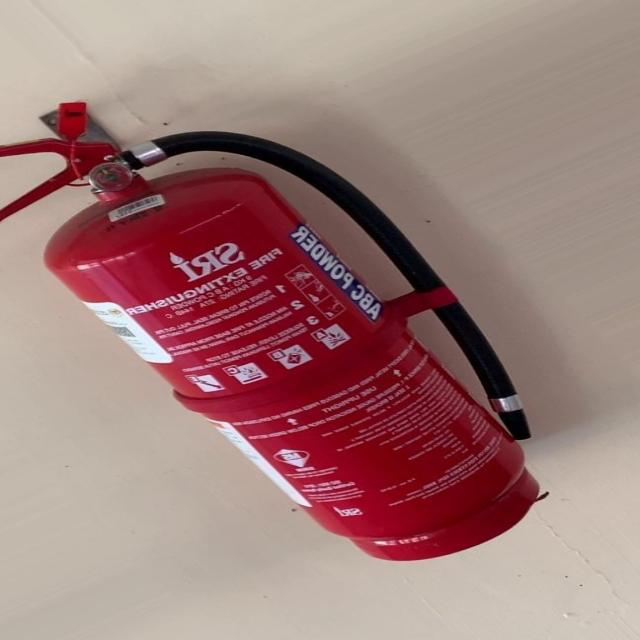fire_extinguisher: (0, 97, 553, 565)
